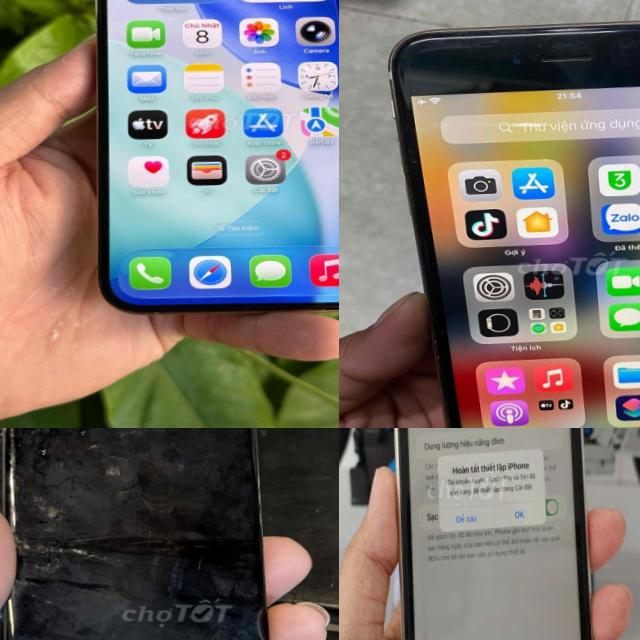gen_11: (395, 428, 590, 640)
gen_12_13: (86, 0, 339, 306)
gen_6: (389, 22, 640, 428)
gen_x_xs: (0, 428, 293, 640)
physical_damage: (363, 9, 640, 94), (0, 428, 28, 511)
scratch: (0, 524, 119, 590), (391, 116, 428, 237), (69, 436, 127, 484), (152, 449, 196, 482), (107, 428, 171, 439)
